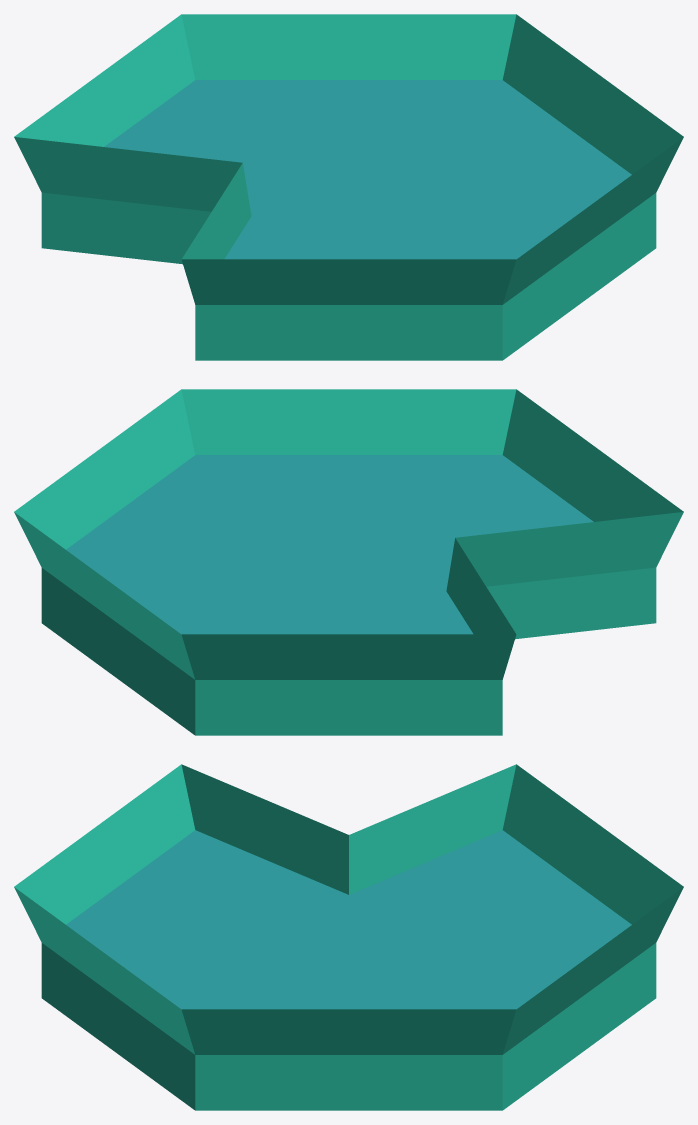
File: lily_small.obj
3 renders of one model, top to bottom at view 1: azimuth 30°, elevation 25°; view 2: azimuth 150°, elevation 25°; view 3: azimuth 270°, elevation 25°, orthographic.
Size of the model in its own units: 0.1888 by 0.04 by 0.218.
